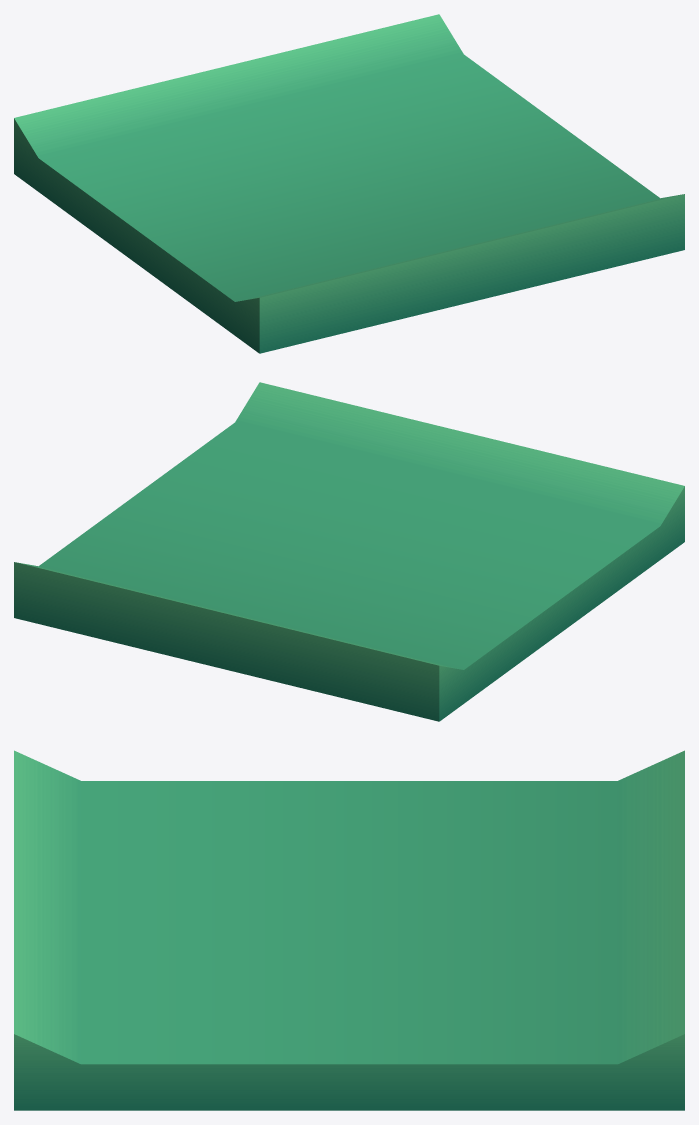
File: roof-flat.glb
3 views of the same model, one above another, from view 1: azimuth 30°, elevation 25°; view 2: azimuth 150°, elevation 25°; view 3: azimuth 270°, elevation 25° (orthographic). The views are drawn at different scales.
Parts seen in each view (by area): view 1: roof-flat; view 2: roof-flat; view 3: roof-flat.
Boxes of the visible parts, left/top/right/bottom form: roof-flat: left=14, top=14, right=684, bottom=353; roof-flat: left=14, top=382, right=684, bottom=721; roof-flat: left=14, top=750, right=684, bottom=1110.
Bounding box in the file's own units: 1 × 0.1259 × 1.
1 material, 1 textured.
